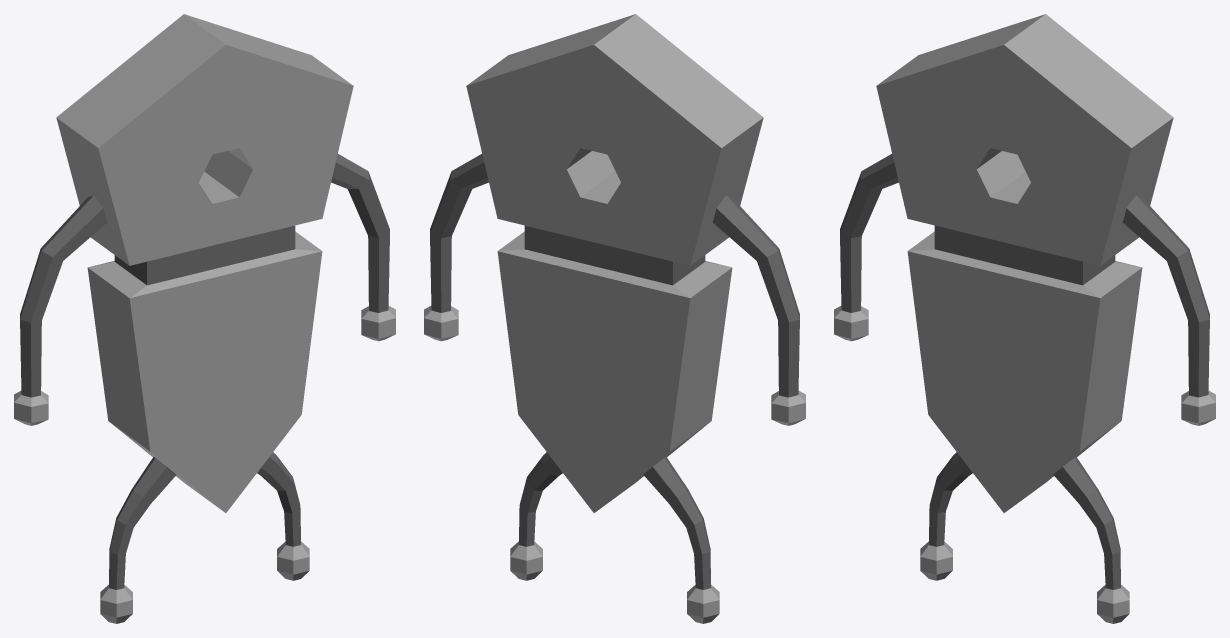
The model's file is Toeni1.glb.
3 renders of one model, left to right at view 1: azimuth 30°, elevation 25°; view 2: azimuth 150°, elevation 25°; view 3: azimuth 330°, elevation 25°, orthographic.
Visible parts, largest first — view 1: Toeni1; view 2: Toeni1; view 3: Toeni1.
Part boxes in pixels (bbox=[...]): Toeni1: bbox=[14, 14, 395, 623]; Toeni1: bbox=[424, 14, 805, 623]; Toeni1: bbox=[834, 14, 1215, 623].
Bounding box in the file's own units: 7.81 × 11.13 × 1.49.
Materials: 1 (1 with a texture image).
